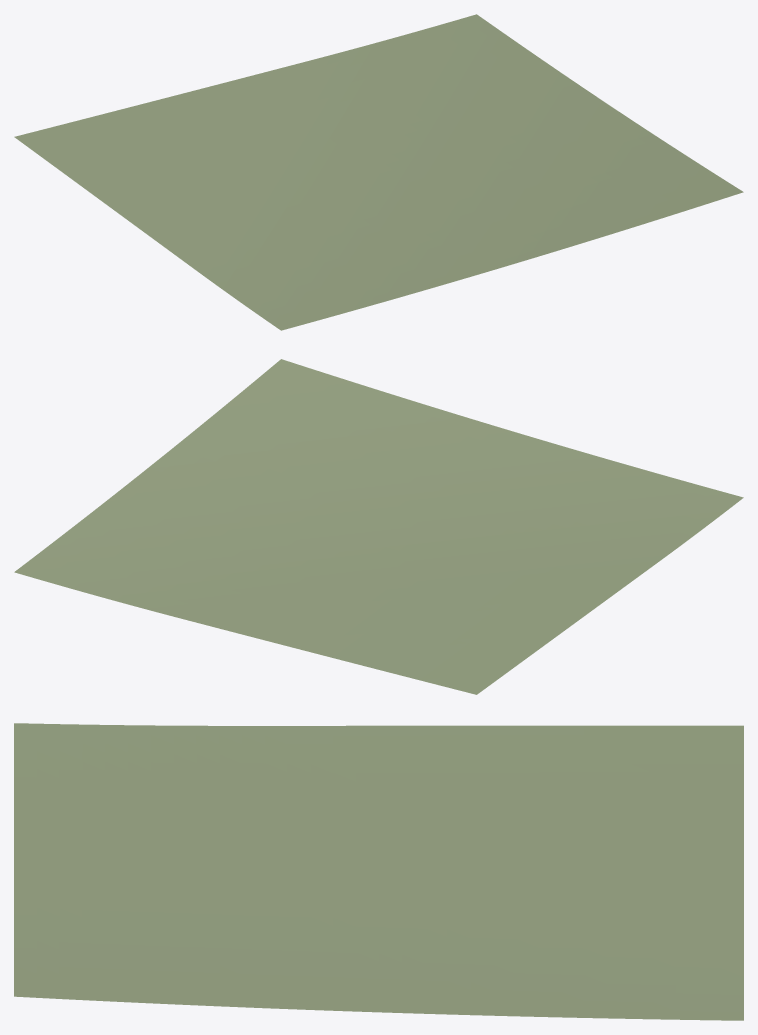
The model's file is desert-9-24.glb.
The picture shows the model from 3 angles, top to bottom: view 1: azimuth 30°, elevation 25°; view 2: azimuth 150°, elevation 25°; view 3: azimuth 270°, elevation 25°; orthographic projection. The views are drawn at different scales.
Visible parts, largest first — view 1: desert-9-24; view 2: desert-9-24; view 3: desert-9-24.
Boxes of the visible parts, x1,y1,x2,y2 form: desert-9-24: [14, 14, 743, 330]; desert-9-24: [14, 359, 743, 694]; desert-9-24: [14, 723, 743, 1020].
Size of the model in its own units: 512 by 29.19 by 512.
